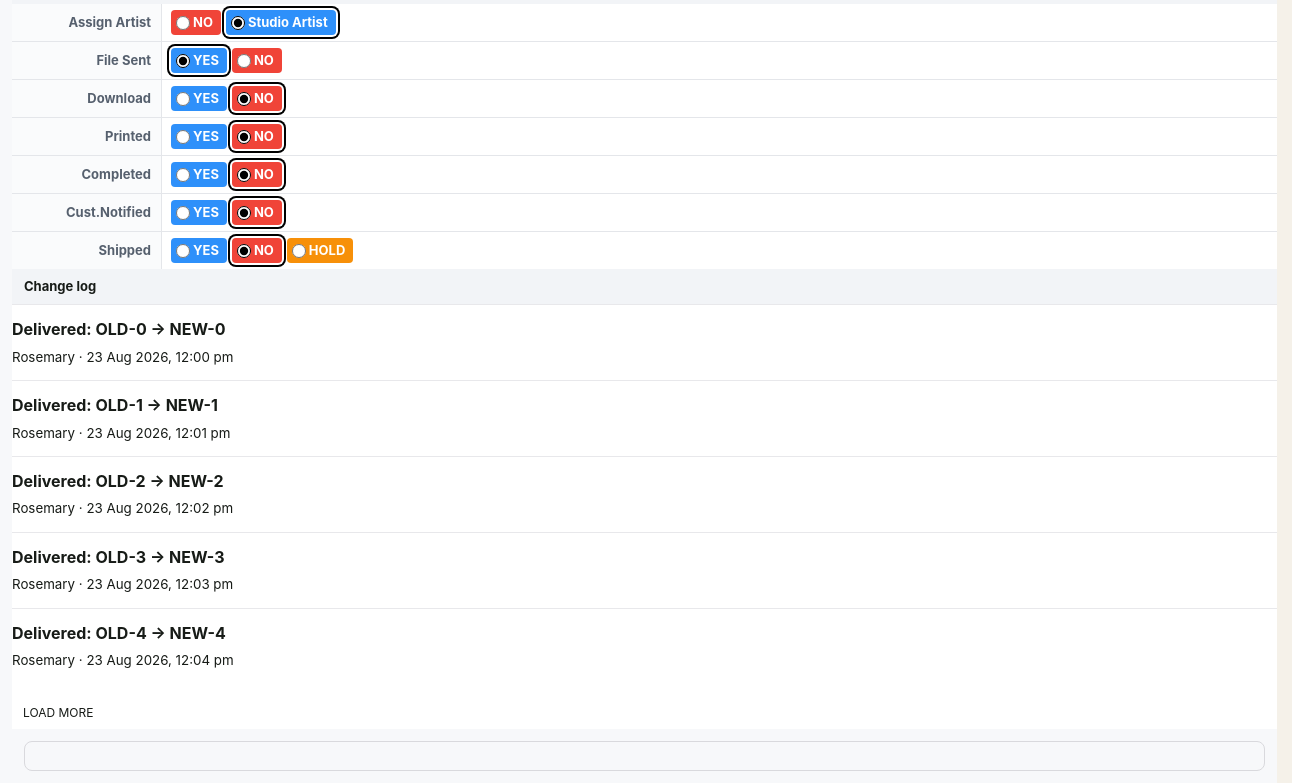
Test: ProductionJobForm › shows five change-log entries initially and reveals more on request
(page scrolled)
expect the heading "Change log" is shown: met, box [24,276,96,297]
expect the text "Delivered: OLD-4 → NEW-4" is shown: met, box [12,623,226,643]
What coordinates should you click on to do the following:
click the button "LOAD MORE"
I would click on:
 (58, 712)
Its box is [12,696,104,729].
(page scrolled)
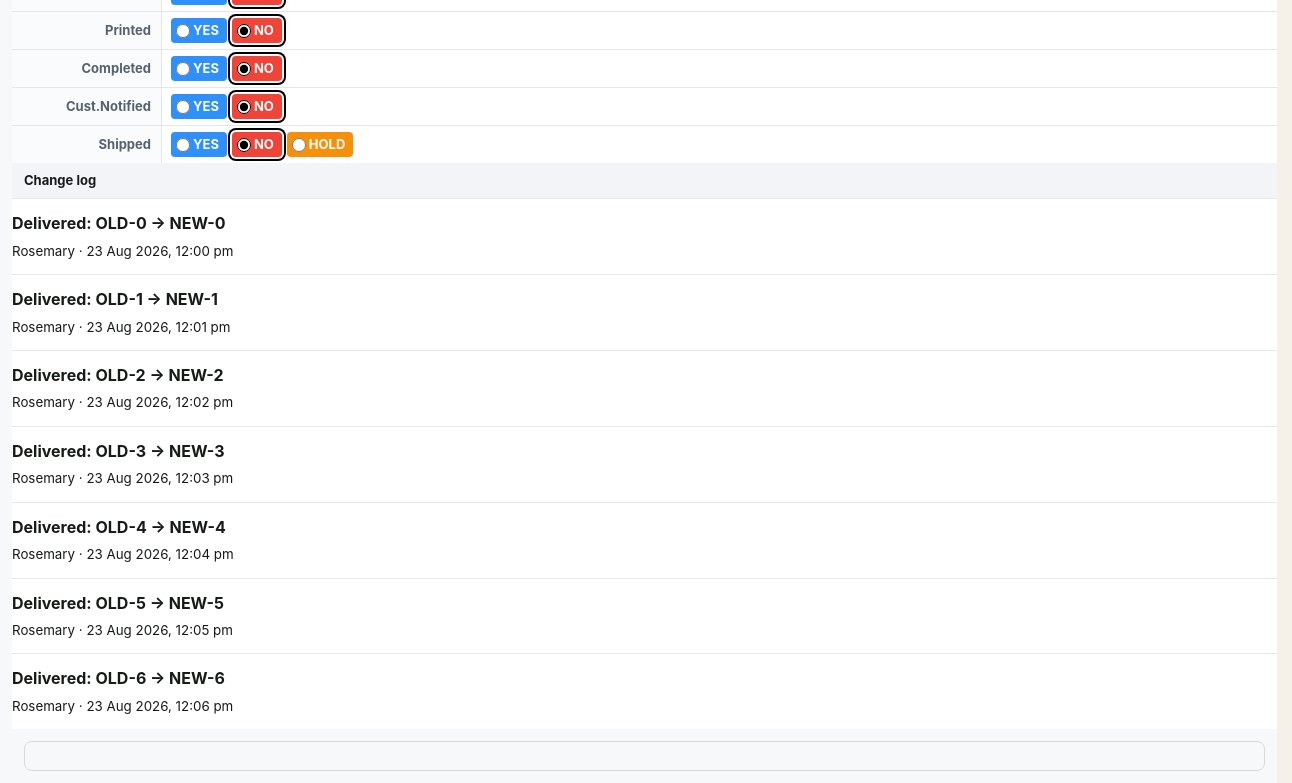
expect the text "Delivered: OLD-6 → NEW-6" is shown: met, box [12,668,225,688]
expect the button "LOAD MORE" is gone: met
